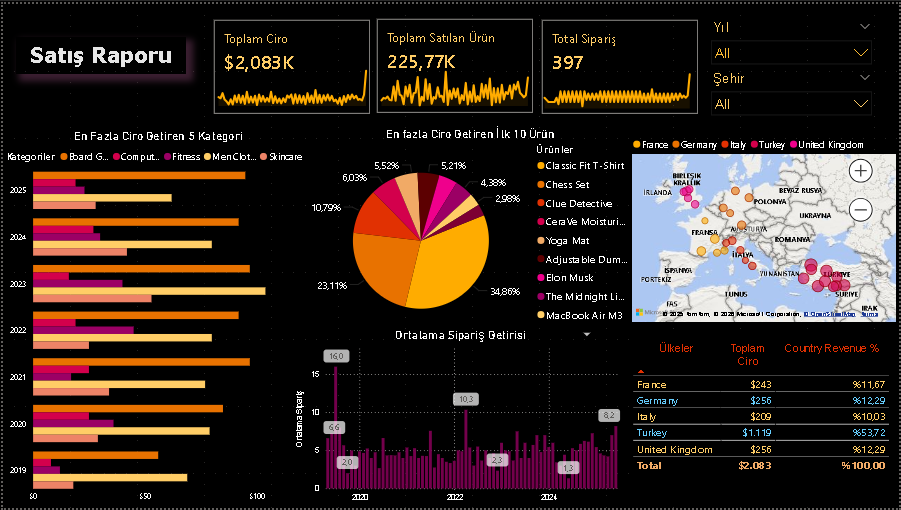

This screenshot's page, from the dashboard's own definition file:
{"tool":"powerbi","page":{"name":"Satış ","canvas":[1280,720],"ordinal":0},"visuals":[{"type":"cardVisual","fields":{"Data":["Measure Table.Total Price"]},"box":[516.8,4.8,257.8,168.8],"z":0},{"type":"cardVisual","fields":{"Data":["Measure Table.Total Sales"]},"box":[284.6,5.1,257.7,168.4],"z":1000},{"type":"cardVisual","fields":{"Data":["Measure Table.Total Orders"]},"box":[752.8,5.1,257.7,168.4],"z":2000},{"type":"lineChart","title":"Toplam Ciro / Yıl","fields":{"Category":["DimDate.YearMonth"],"Y":["Measure Table.Toplam Satılan Ürün Sayısı"]},"box":[293.1,74.1,240.8,77.5],"z":3000},{"type":"lineChart","title":"Toplam Ciro / Yıl","fields":{"Category":["DimDate.YearMonth"],"Y":["Measure Table.Toplam Satılan Ürün"]},"box":[525.5,74.1,239.2,77.5],"z":4000},{"type":"lineChart","title":"Toplam Ciro / Yıl","fields":{"Category":["DimDate.YearMonth"],"Y":["Measure Table.Total Sipariş"]},"box":[757.9,74.1,237.5,80.8],"z":5000},{"type":"slicer","fields":{"Values":["DimDate.Year"]},"box":[1002.1,17.4,250,71.7],"z":6000},{"type":"slicer","fields":{"Values":["cities.city_name"]},"box":[1002,89.6,250,71.9],"z":7000},{"type":"lineClusteredColumnComboChart","title":"Ortalama Sipariş Getirisi","fields":{"Category":["DimDate.YearMonth"],"Y":["Measure Table.Ortalama Sipariş"]},"box":[412.6,459.8,481.7,261.1],"z":8000},{"type":"map","fields":{"Category":["cities.city_name"],"Series":["countries.country_name"],"Size":["Measure Table.Toplam Ciro"]},"box":[893.8,179.7,385.9,279.7],"z":9000},{"type":"clusteredBarChart","title":"En Fazla Ciro Getiren 5 Kategori","fields":{"Category":["DimDate.YearMonth.Variation.Date Hierarchy.Year","DimDate.YearMonth.Variation.Date Hierarchy.Quarter","DimDate.YearMonth.Variation.Date Hierarchy.Month","DimDate.YearMonth.Variation.Date Hierarchy.Day"],"Y":["Measure Table.Toplam Ciro"],"Series":["categories.category_name"]},"box":[0,178.5,442.9,542.3],"z":10000},{"type":"pieChart","title":"En fazla Ciro Getiren İlk 10 Ürün","fields":{"Y":["Measure Table.Toplam Ciro"],"Category":["products.product_name"]},"box":[427.8,173.5,481.7,311.6],"z":11000},{"type":"tableEx","fields":{"Values":["countries.country_name","Measure Table.Toplam Ciro","Measure Table.Country Revenue %"]},"box":[893.8,475,385.9,229.7],"z":12000},{"type":"textbox","box":[18.6,47.1,242.9,52.9],"z":13000}]}

Visuals, with their boxes in screenshot pixels (x1, y1, x2, y2), scaled from the page's 1280x720 canvas onto the 901x510 screenshot:
cardVisual - Measure Table.Total Price: box(364, 3, 545, 123)
cardVisual - Measure Table.Total Sales: box(200, 4, 382, 123)
cardVisual - Measure Table.Total Orders: box(530, 4, 711, 123)
"Toplam Ciro / Yıl" lineChart: box(206, 52, 376, 107)
"Toplam Ciro / Yıl" lineChart: box(370, 52, 538, 107)
"Toplam Ciro / Yıl" lineChart: box(533, 52, 701, 110)
slicer - DimDate.Year: box(705, 12, 881, 63)
slicer - cities.city_name: box(705, 63, 881, 114)
"Ortalama Sipariş Getirisi" lineClusteredColumnComboChart: box(290, 326, 630, 509)
map - cities.city_name x countries.country_name: box(629, 127, 900, 325)
"En Fazla Ciro Getiren 5 Kategori" clusteredBarChart: box(0, 126, 312, 509)
"En fazla Ciro Getiren İlk 10 Ürün" pieChart: box(301, 123, 640, 344)
tableEx - countries.country_name x Measure Table.Toplam Ciro: box(629, 336, 900, 499)
textbox: box(13, 33, 184, 71)
